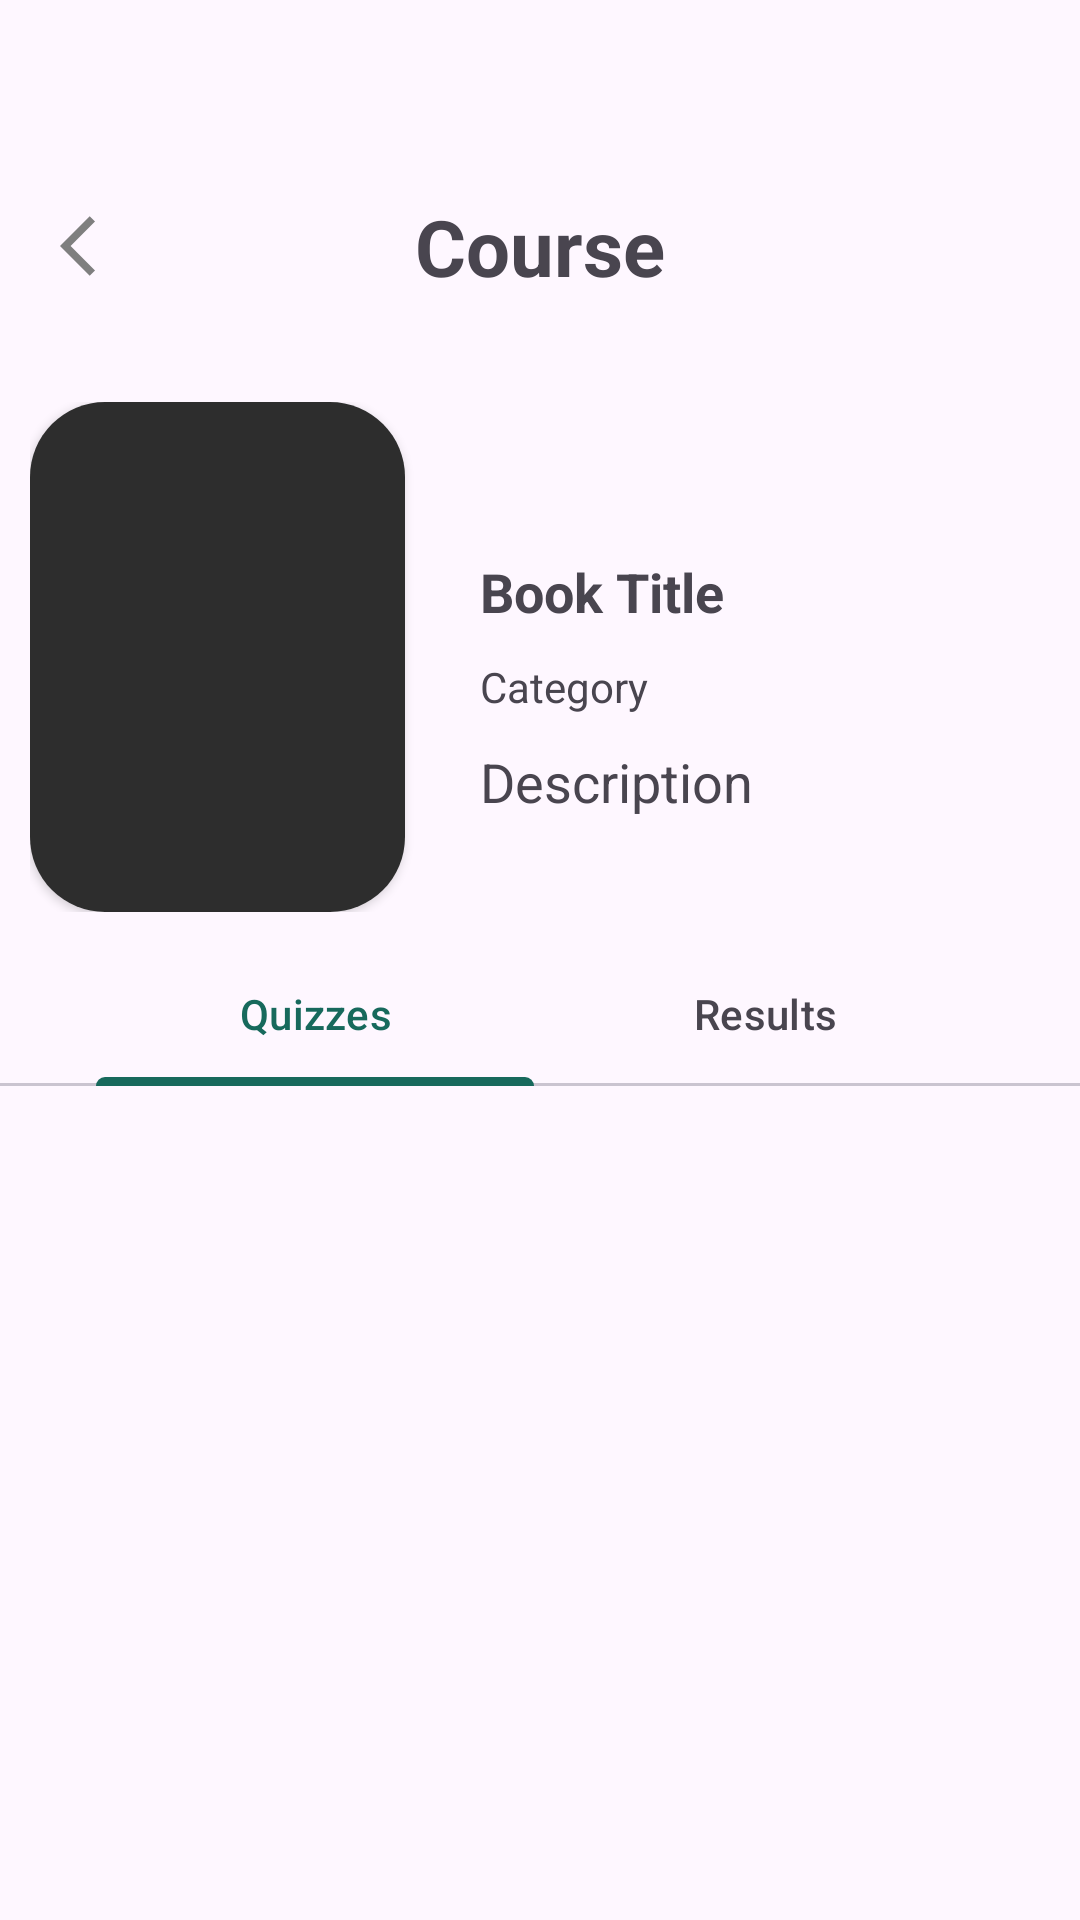

Icons on this 1080px x 1920px Android screen, each with the point to tap as (x=x, y=y):
arrow back: (x=77, y=246)
